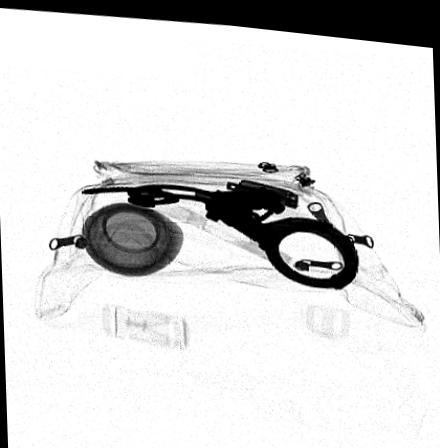HandCuffs: (80, 174, 359, 282)
